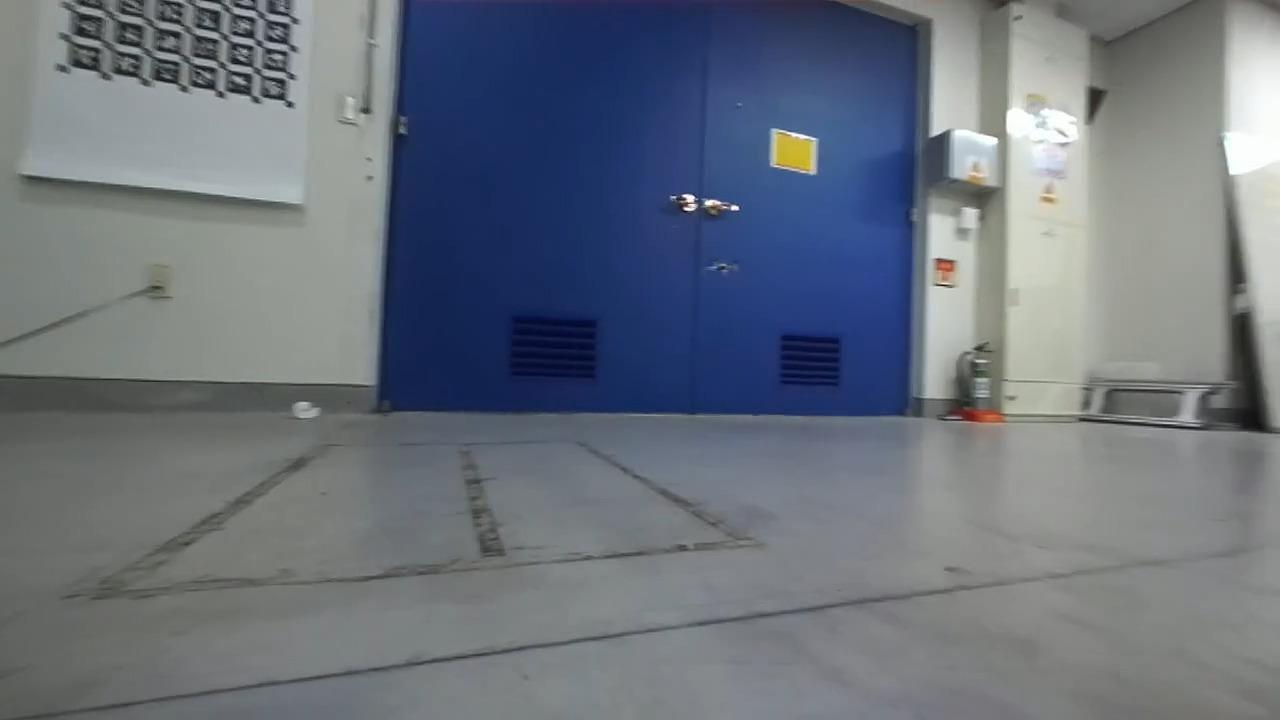crazyflie: (697, 258, 745, 279)
